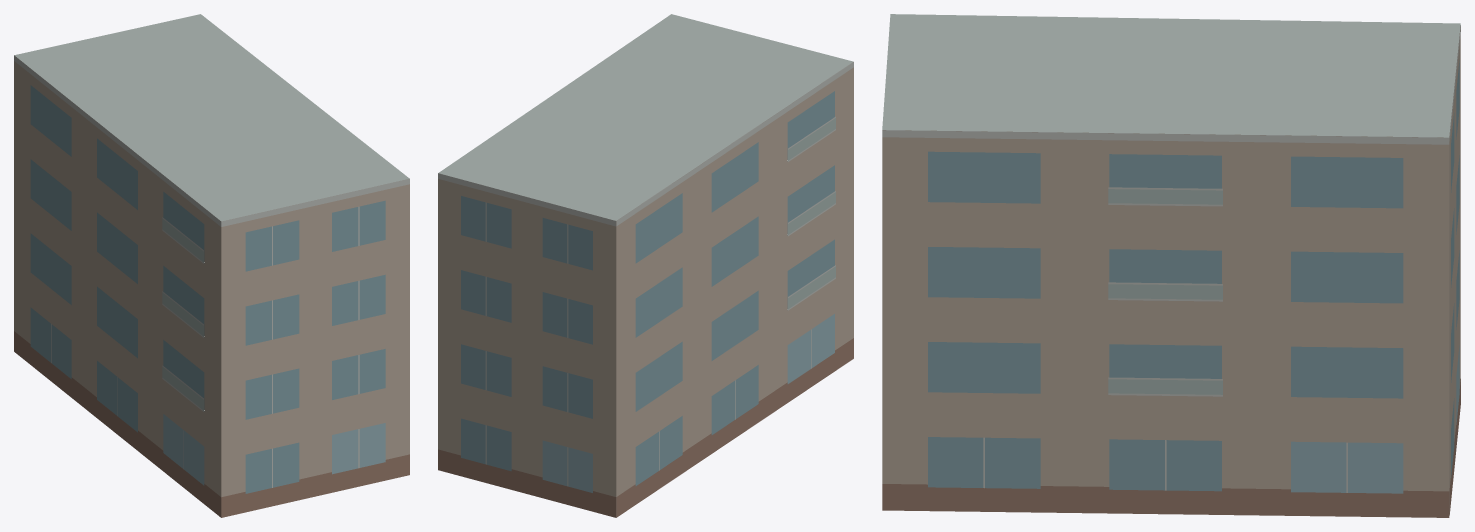
The model's file is survey-upis-32663633.glb.
The picture shows the model from 3 angles, left to right: view 1: azimuth 30°, elevation 25°; view 2: azimuth 150°, elevation 25°; view 3: azimuth 270°, elevation 25°; orthographic projection. The views are drawn at different scales.
Parts seen in each view (by area): view 1: survey-upis-32663633.tmp; view 2: survey-upis-32663633.tmp; view 3: survey-upis-32663633.tmp.
Boxes of the visible parts, x1=… form: survey-upis-32663633.tmp: x1=14, y1=14, x2=409, y2=517; survey-upis-32663633.tmp: x1=438, y1=14, x2=853, y2=517; survey-upis-32663633.tmp: x1=882, y1=14, x2=1460, y2=517.
Size of the model in its own units: 8.99 by 12.9 by 17.8.
